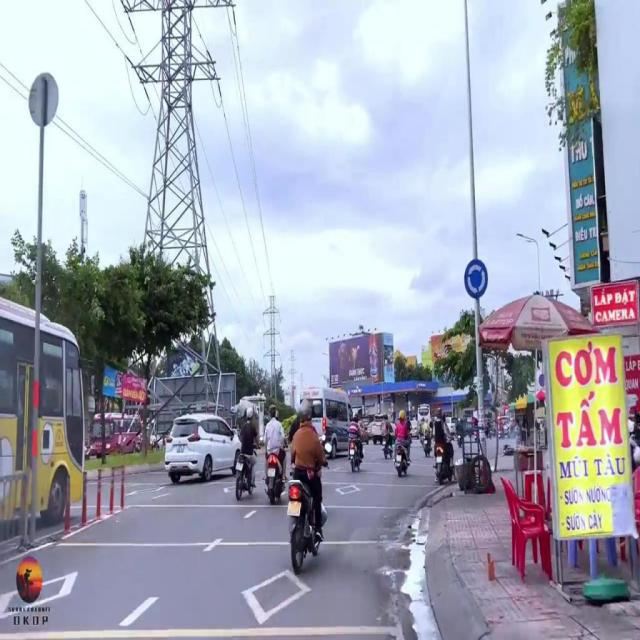noi_giao_nhau_chay_theo_vong: (465, 260, 487, 300)
